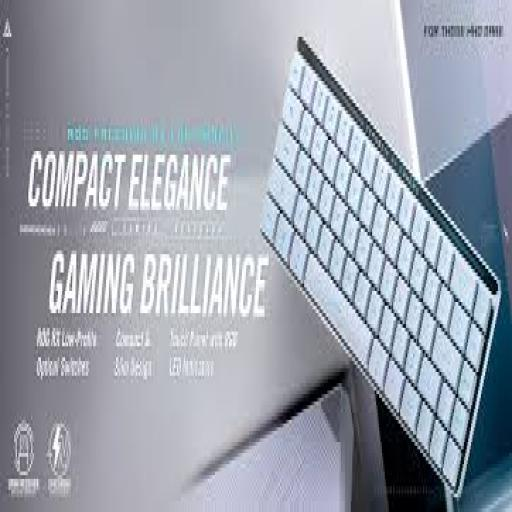keyboard: (261, 37, 500, 497)
